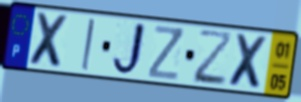I: (79, 17, 97, 73)
J: (110, 20, 149, 79)
X: (226, 31, 271, 92), (27, 10, 71, 71)
Z: (192, 28, 234, 88), (146, 24, 185, 83)
